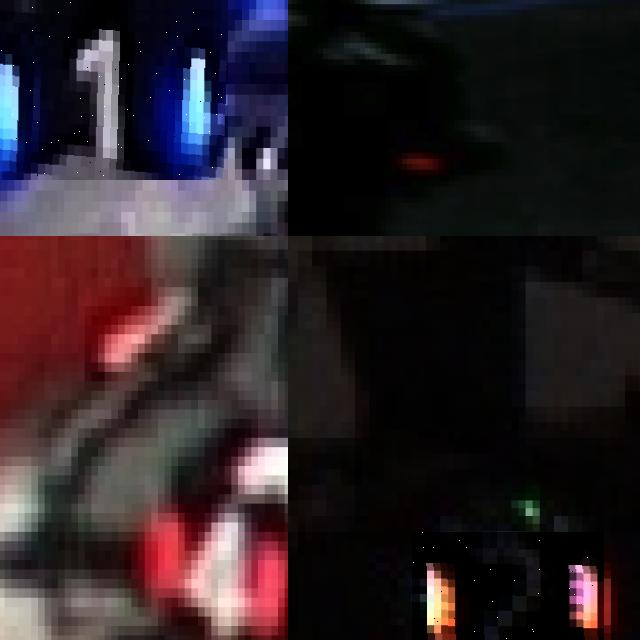B1: (0, 0, 228, 180)
R2: (412, 531, 604, 640)
R4: (137, 485, 288, 626)
